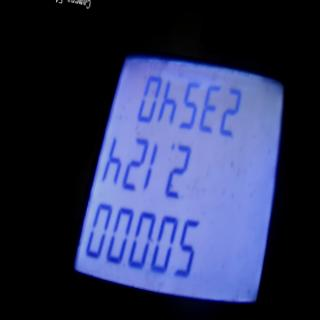screen: (59, 15, 311, 320)
